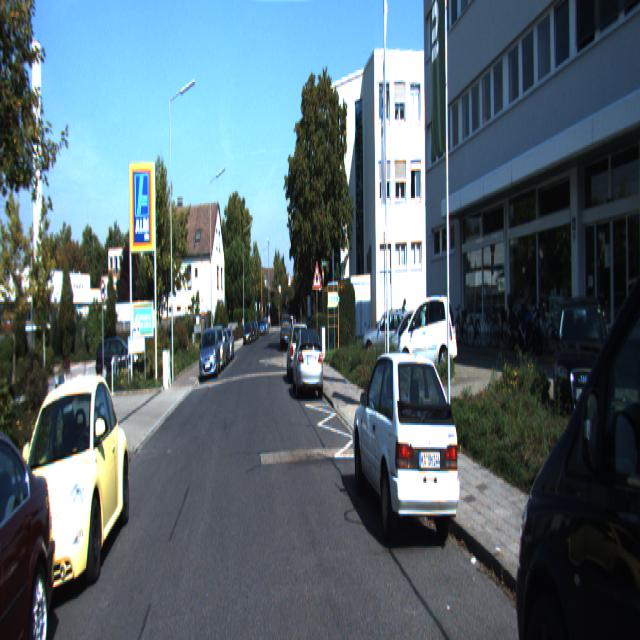Car: (0, 364, 130, 621), (349, 340, 464, 558), (395, 289, 459, 380), (361, 305, 416, 367), (291, 324, 324, 401), (286, 319, 310, 386), (198, 325, 221, 380), (279, 312, 292, 352)
